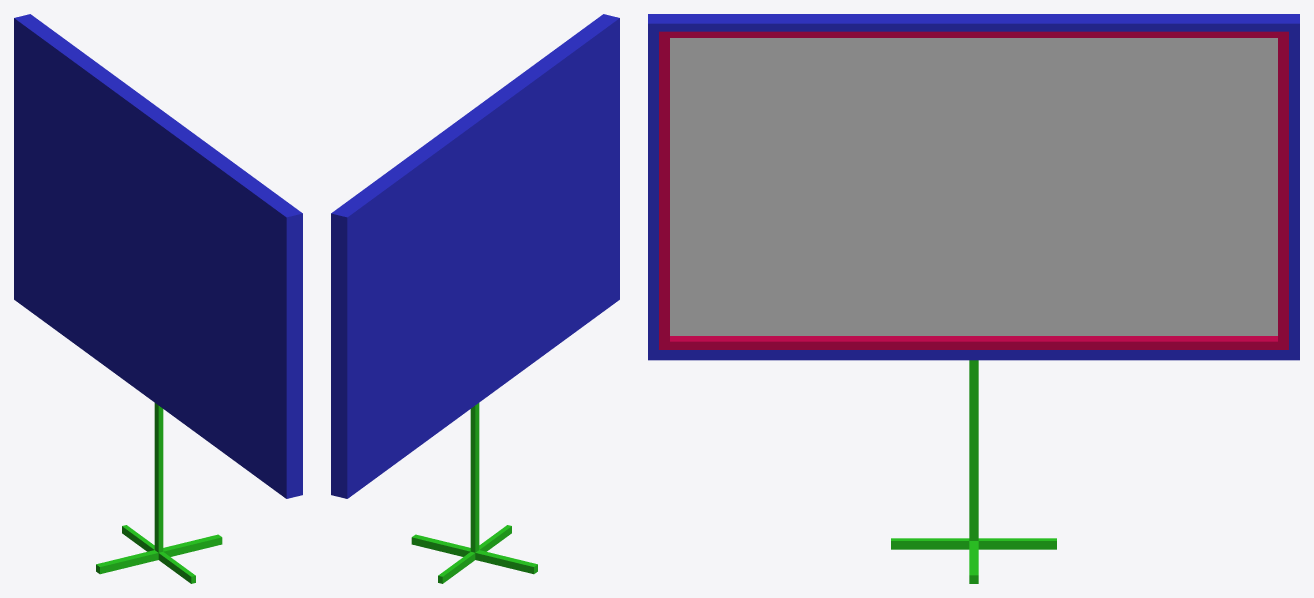
The model's file is ScoreboardMonitor.fbx.
3 renders of one model, left to right at view 1: azimuth 30°, elevation 25°; view 2: azimuth 150°, elevation 25°; view 3: azimuth 270°, elevation 25°, orthographic. The views are drawn at different scales.
Visible parts, largest first — view 1: ScoreboardMonitor; view 2: ScoreboardMonitor; view 3: ScoreboardMonitor.
Part boxes in pixels (x1,y1,x2,y2): ScoreboardMonitor: [14, 14, 302, 583]; ScoreboardMonitor: [331, 14, 619, 583]; ScoreboardMonitor: [648, 14, 1299, 583].
Bounding box in the file's own units: 40.1 × 138 × 155.
